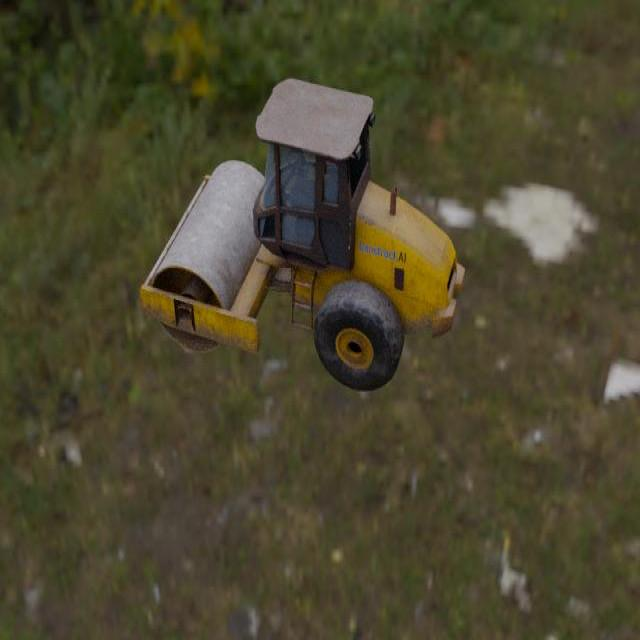Roller: (139, 77, 465, 392)
